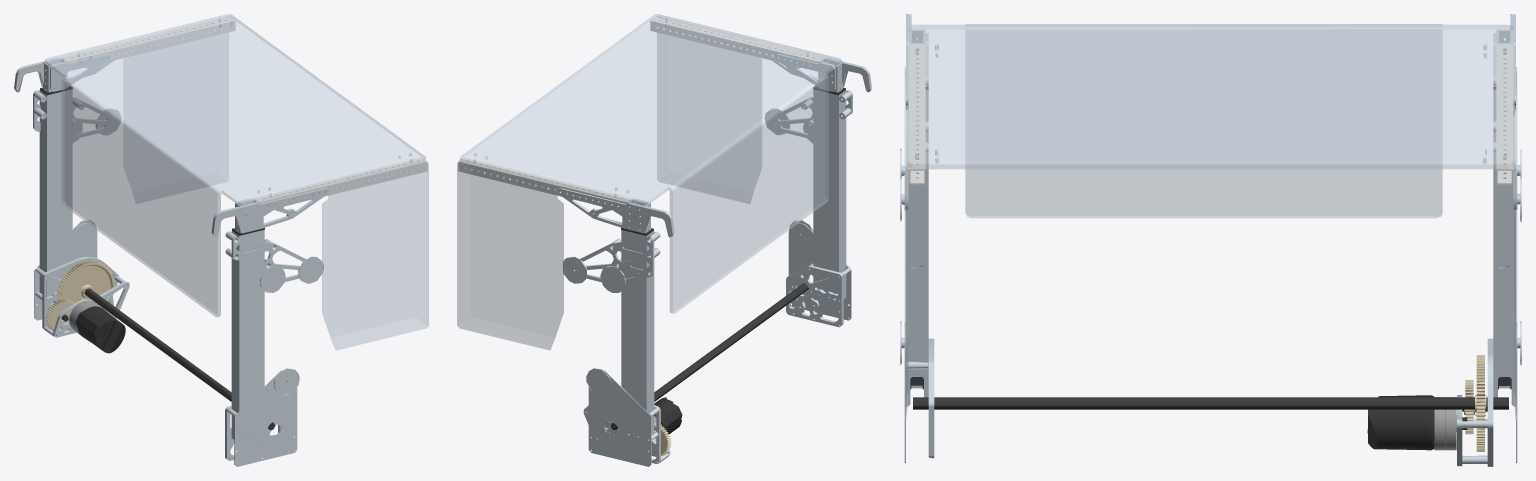
The model's file is 1678-lift.glb.
The picture shows the model from 3 angles, left to right: view 1: azimuth 30°, elevation 25°; view 2: azimuth 150°, elevation 25°; view 3: azimuth 270°, elevation 25°; orthographic projection. The views are drawn at different scales.
Visible parts, largest first — view 1: Part 58, 1678-26c-1943, 1678-26c-1924, 1678-26c-1915, 84t Pocketed Aluminum Spur Gear (20 DP, 1/2" Hex Bore), Kraken X60 Brushless Motor, 46t Aluminum Spur Gear (20 DP, 1/2" Hex Bore); view 2: Part 58, 1678-26c-1943, 1678-26c-1924, 1678-26c-1915, Kraken X60 Brushless Motor; view 3: Part 58, 1678-26c-1943, 1678-26c-1915, 1678-26c-1924, Kraken X60 Brushless Motor, Kraken X60 Motor Riser_1, 84t Pocketed Aluminum Spur Gear (20 DP, 1/2" Hex Bore).
Part boxes in pixels (x1,y1,x2,y2): Part 58: (44,14,428,350); 1678-26c-1943: (14,54,328,466); 1678-26c-1924: (62,17,427,204); 1678-26c-1915: (40,86,274,429); 84t Pocketed Aluminum Spur Gear (20 DP, 1/2" Hex Bore): (57,260,114,302); Kraken X60 Brushless Motor: (76,306,125,353); 46t Aluminum Spur Gear (20 DP, 1/2" Hex Bore): (45,298,74,331); Part 58: (457,14,841,350); 1678-26c-1943: (557,54,871,466); 1678-26c-1924: (458,17,823,204); 1678-26c-1915: (611,86,845,429); Kraken X60 Brushless Motor: (654,397,682,433); Part 58: (904,24,1517,420); 1678-26c-1943: (900,14,1521,466); 1678-26c-1915: (913,86,1508,411); 1678-26c-1924: (908,44,1513,184); Kraken X60 Brushless Motor: (1367,395,1467,450); Kraken X60 Motor Riser_1: (1434,397,1456,450); 84t Pocketed Aluminum Spur Gear (20 DP, 1/2" Hex Bore): (1475,355,1486,451).
Bounding box in the file's own units: 0.4271 × 0.5035 × 0.6985.
